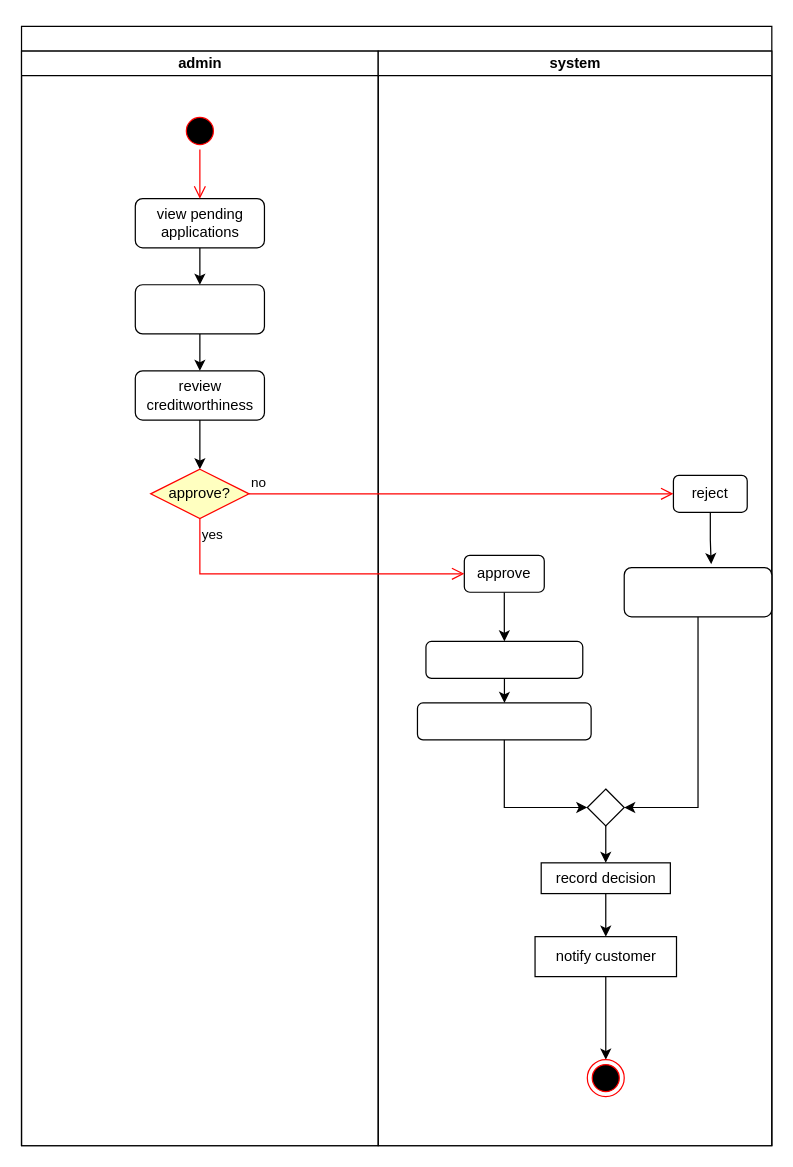
This 793x1167 diagram has some shape labels left out. The shapes that lost their labels are listed below. From the top down, each one's centre as x and y in pixels, then its label:
At point (199, 309): "open application details".
At point (697, 591): "set status to rejected".
At point (504, 659): "set status to approved".
At point (503, 721): "generate repayment date".
